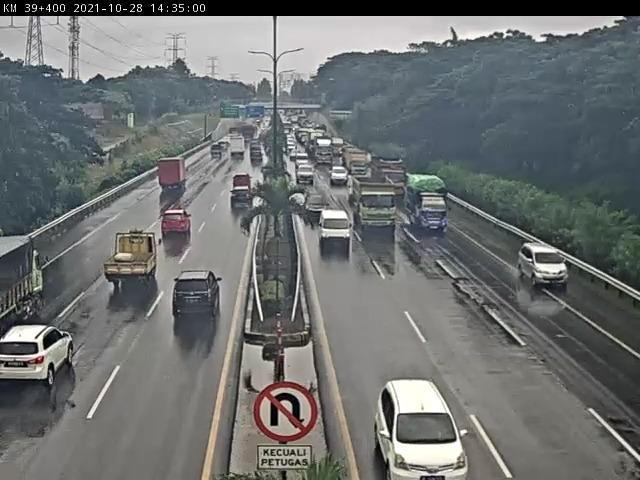car: (367, 364, 481, 480), (2, 318, 80, 406), (165, 267, 223, 328), (513, 242, 570, 297), (316, 217, 354, 258), (158, 208, 193, 243), (293, 159, 322, 187), (304, 193, 330, 218), (330, 163, 353, 188), (230, 177, 258, 194), (233, 194, 258, 213)
truck: (1, 232, 53, 325), (106, 232, 162, 292), (403, 173, 448, 238), (349, 178, 399, 232), (155, 159, 192, 200)
